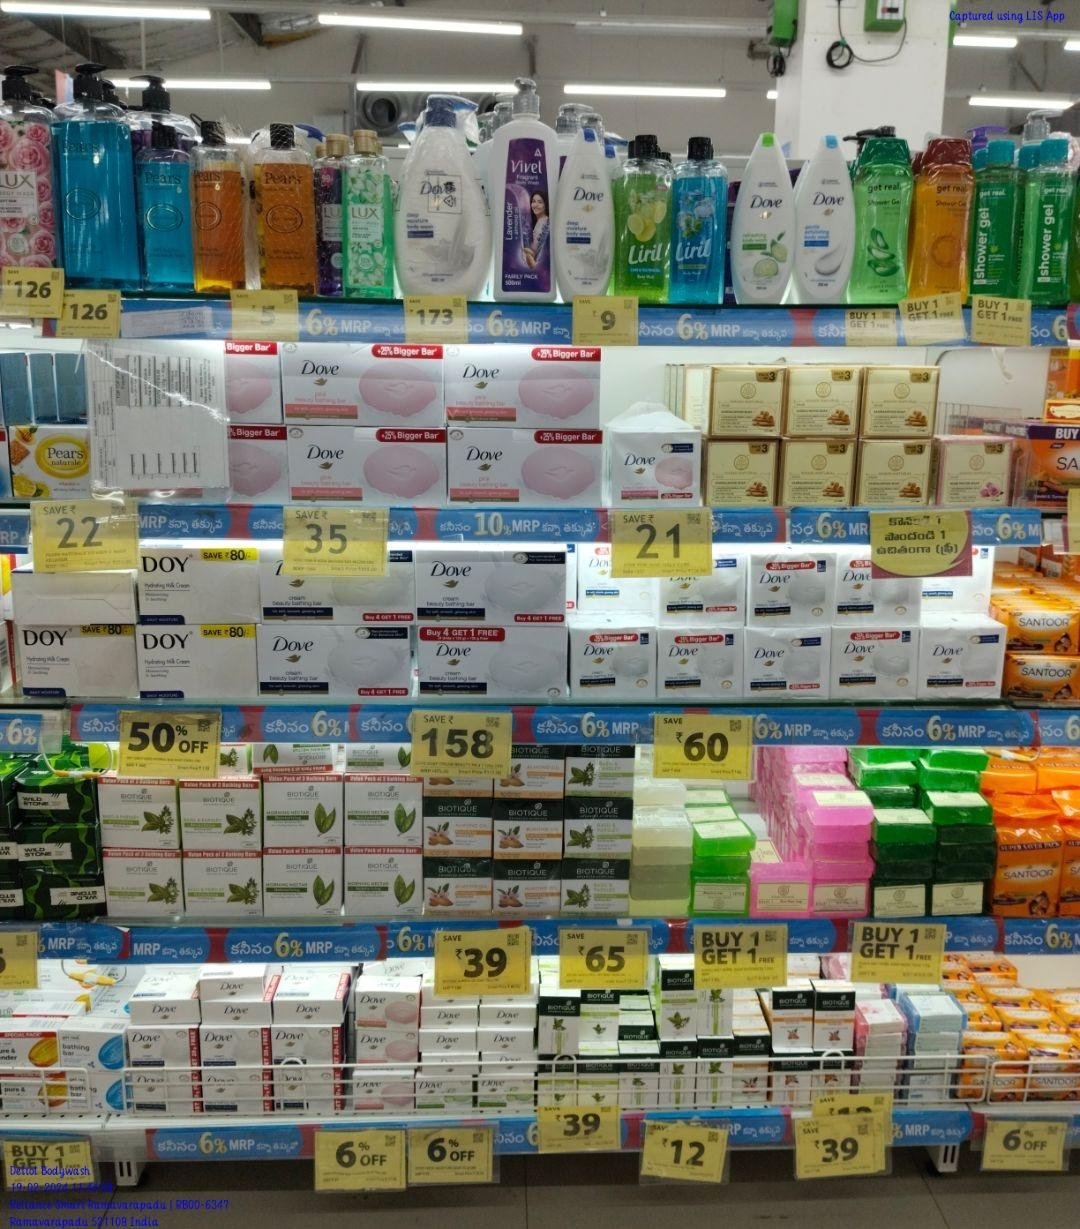Dove_Gentle_Exfoliating_Body_Wash_250ML: (799, 134, 850, 302)
Dove_Refreshing_Body_Wash_250ML: (728, 136, 798, 304)
Liril_Cooling_Mint_Body_Wash_250ML: (672, 137, 723, 303)
Liril_Lime_and_Tea_Tree_Oil_Body_Wash_250ML: (616, 135, 668, 303)
Lux_Body_Wash_Skin_Detox_Freesia_Scent_and_Alove_Vera_245ML: (341, 126, 397, 295)
